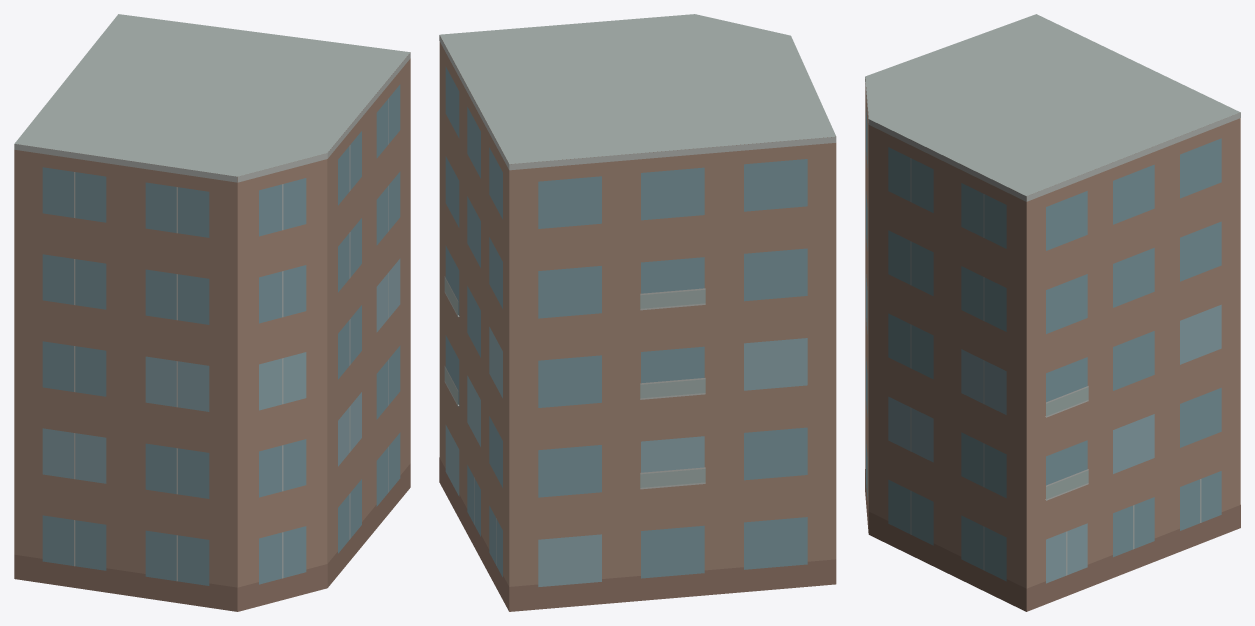
The model's file is survey-upis-32839900.glb.
3 renders of one model, left to right at view 1: azimuth 30°, elevation 25°; view 2: azimuth 150°, elevation 25°; view 3: azimuth 270°, elevation 25°, orthographic. The views are drawn at different scales.
Visible parts, largest first — view 1: survey-upis-32839900.tmp; view 2: survey-upis-32839900.tmp; view 3: survey-upis-32839900.tmp.
Boxes of the visible parts, x1,y1,x2,y2 form: survey-upis-32839900.tmp: [14, 14, 410, 611]; survey-upis-32839900.tmp: [439, 14, 836, 611]; survey-upis-32839900.tmp: [865, 14, 1240, 611].
Bounding box in the file's own units: 16.84 × 17.9 × 14.66.
